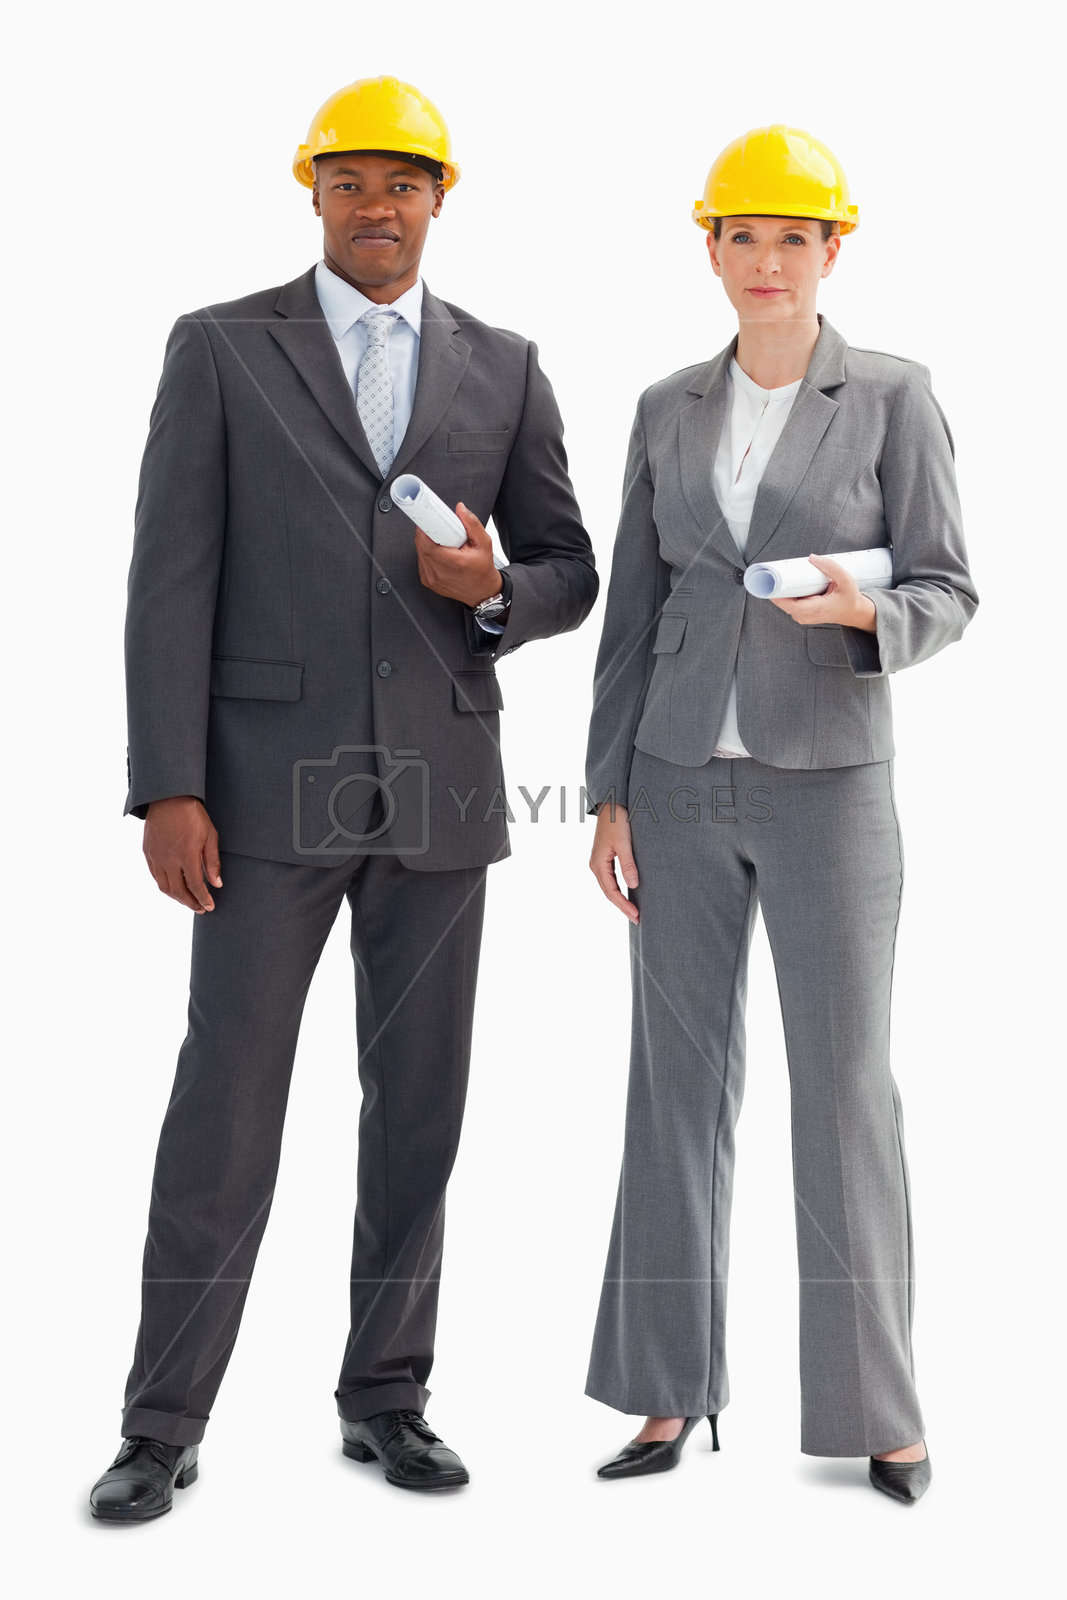Person_wearing_helmet: (676, 97, 854, 284), (298, 63, 450, 197)
